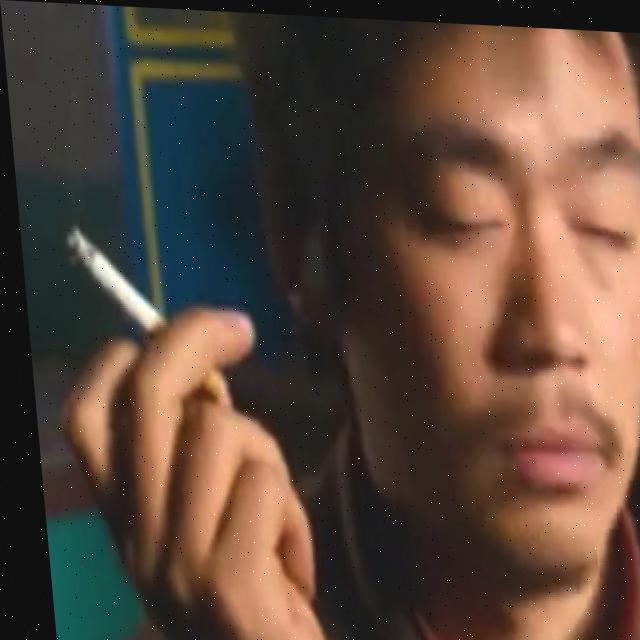cigarette: (60, 228, 221, 398)
